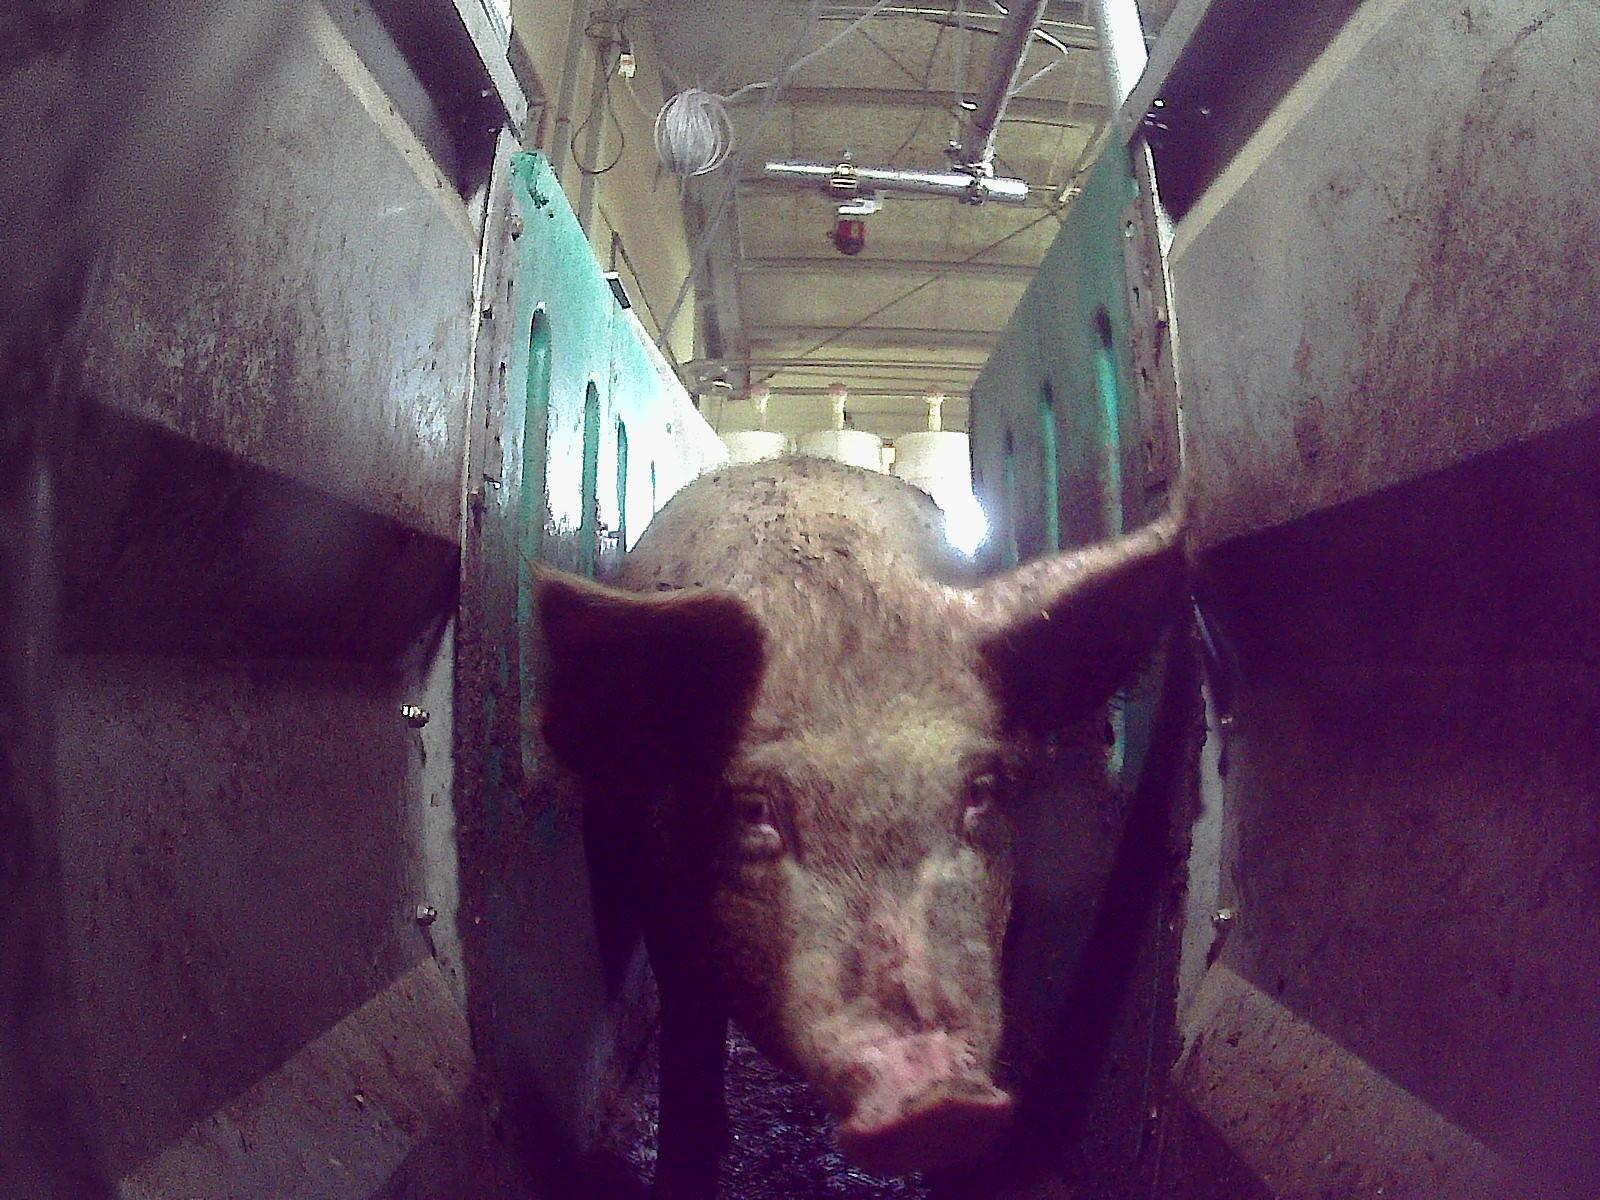Face: (671, 564, 1021, 1176)
